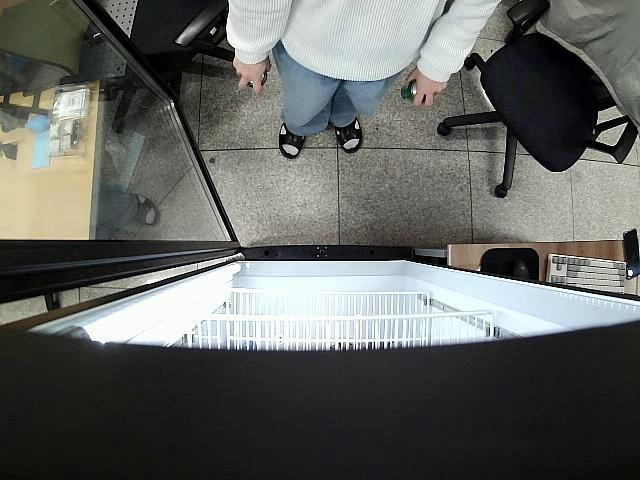12_chilsungCider: (401, 81, 417, 100)
